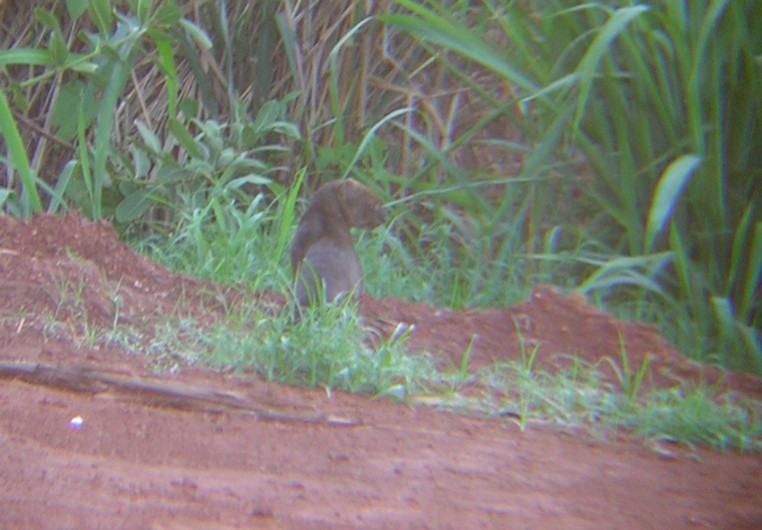Jaguarundi: (284, 169, 388, 353)
